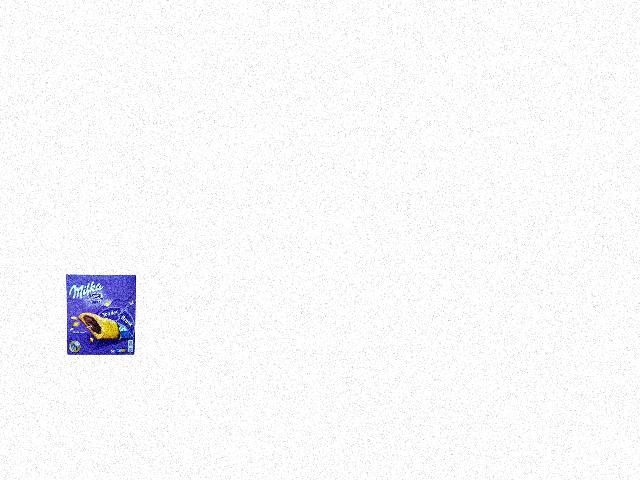chocolate: (62, 269, 138, 360)
